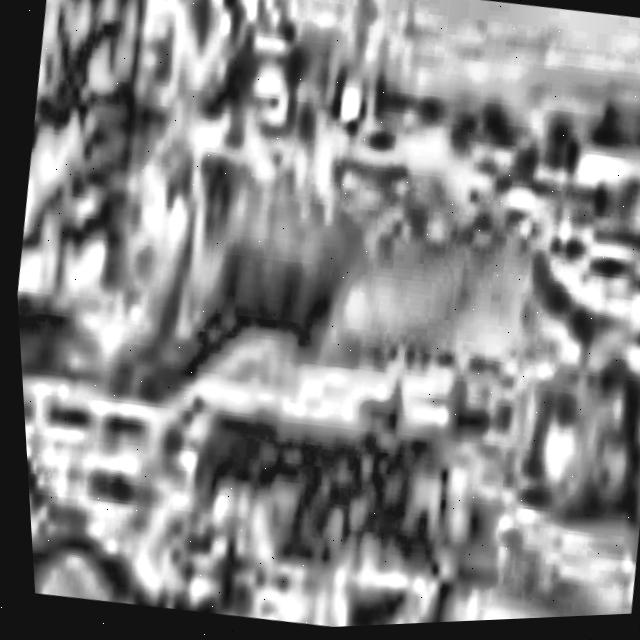dump_truck: (14, 287, 503, 640), (476, 193, 640, 585)
